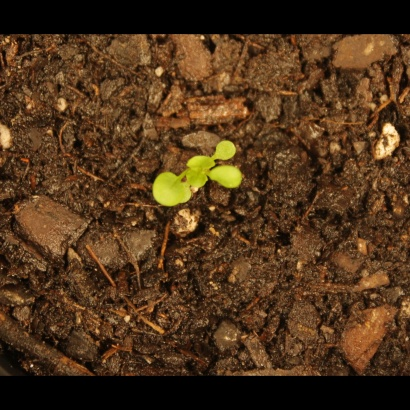leaf: (147, 171, 188, 209), (186, 149, 213, 192), (211, 159, 245, 189), (211, 135, 244, 163)
